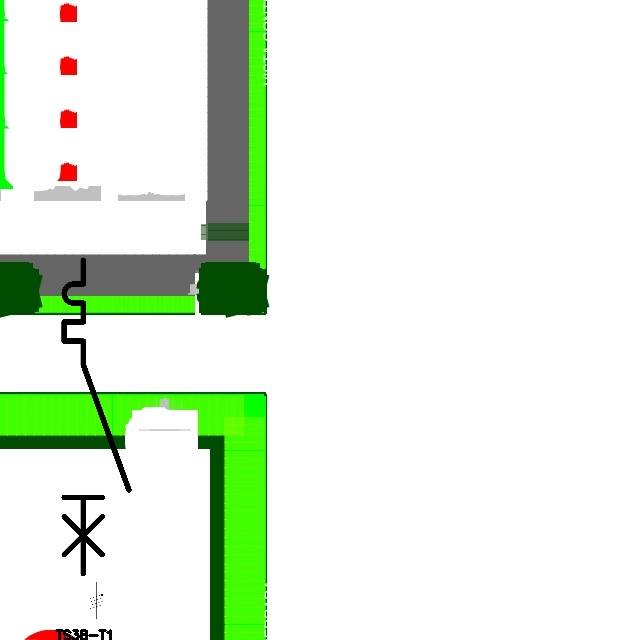interruptor_termomagnetico: (56, 252, 136, 582)
